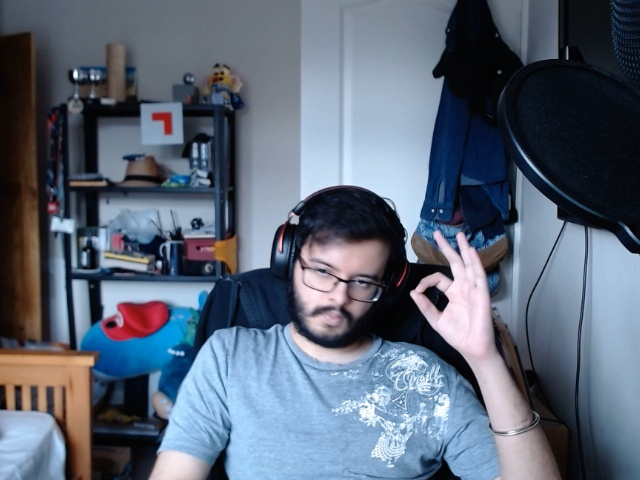Okay: (409, 227, 498, 344)
